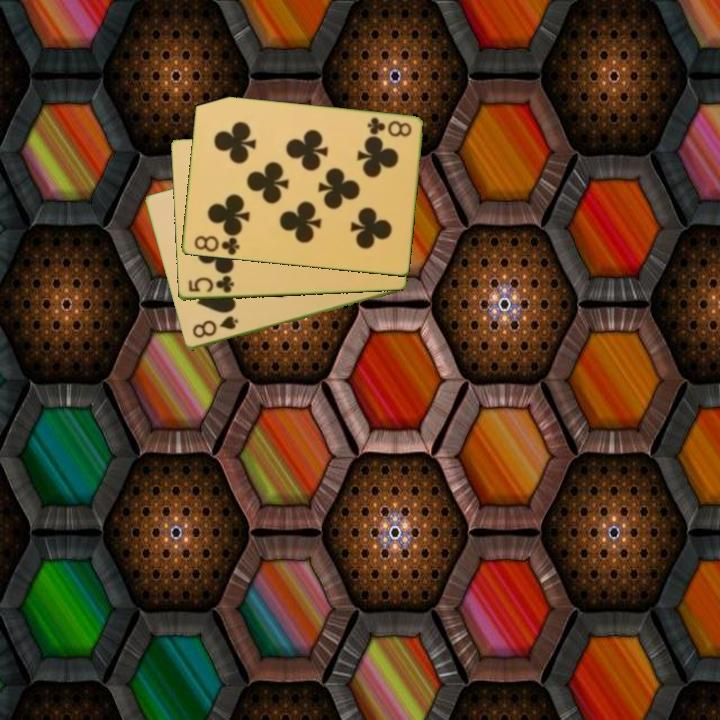5c: (185, 272, 237, 296)
8c: (190, 232, 242, 258), (363, 114, 414, 140)
8s: (189, 313, 241, 341)
